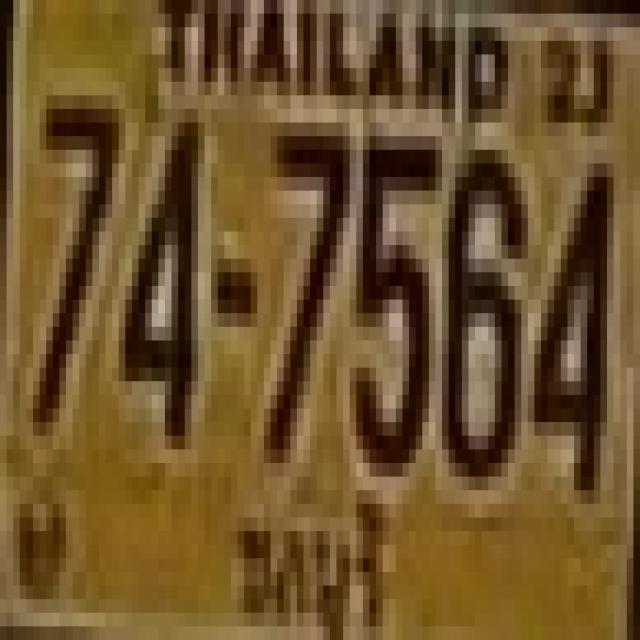4: (528, 156, 607, 484), (119, 102, 198, 429)
5: (350, 123, 436, 463)
6: (442, 136, 521, 477)
7: (30, 88, 116, 416), (264, 122, 343, 450)
CBI: (224, 478, 399, 640)
